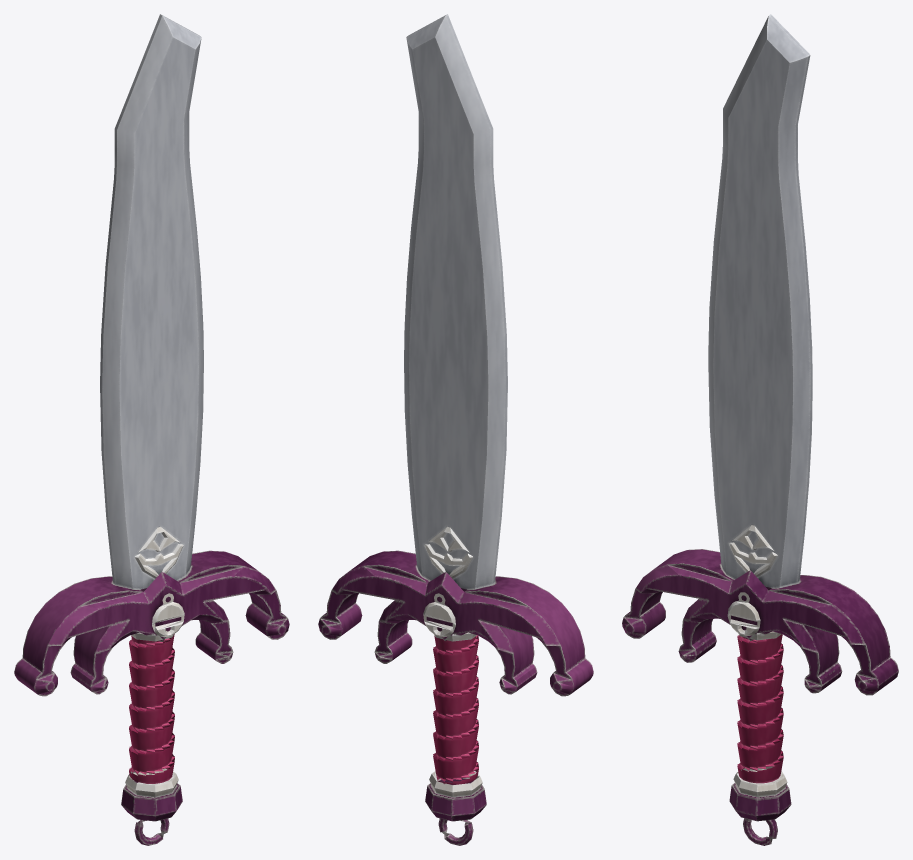
The model's file is Bravura.fbx.
3 renders of one model, left to right at view 1: azimuth 30°, elevation 25°; view 2: azimuth 150°, elevation 25°; view 3: azimuth 330°, elevation 25°, orthographic.
Visible parts, largest first — view 1: Bravura_Body; view 2: Bravura_Body; view 3: Bravura_Body.
Part boxes in pixels (bbox=[...]): Bravura_Body: bbox=[14, 14, 289, 845]; Bravura_Body: bbox=[318, 14, 593, 845]; Bravura_Body: bbox=[622, 14, 898, 845].
Size of the model in its own units: 1.33 by 4.11 by 0.32.
